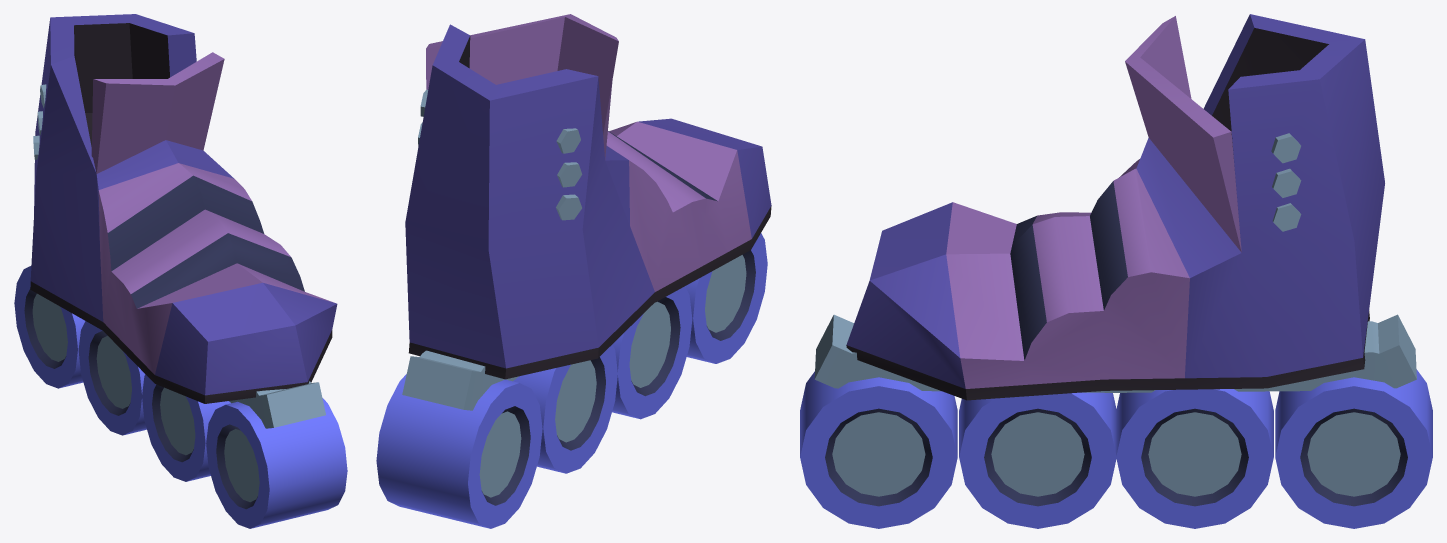
The model's file is Blades.fbx.
3 views of the same model, side by side, from view 1: azimuth 30°, elevation 25°; view 2: azimuth 150°, elevation 25°; view 3: azimuth 270°, elevation 25° (orthographic). The views are drawn at different scales.
Visible parts, largest first — view 1: Blades; view 2: Blades; view 3: Blades.
Boxes of the visible parts, x1,y1,x2,y2 form: Blades: (14,14,347,528); Blades: (376,14,771,528); Blades: (800,14,1432,528).
Size of the model in its own units: 145 by 276 by 351.
